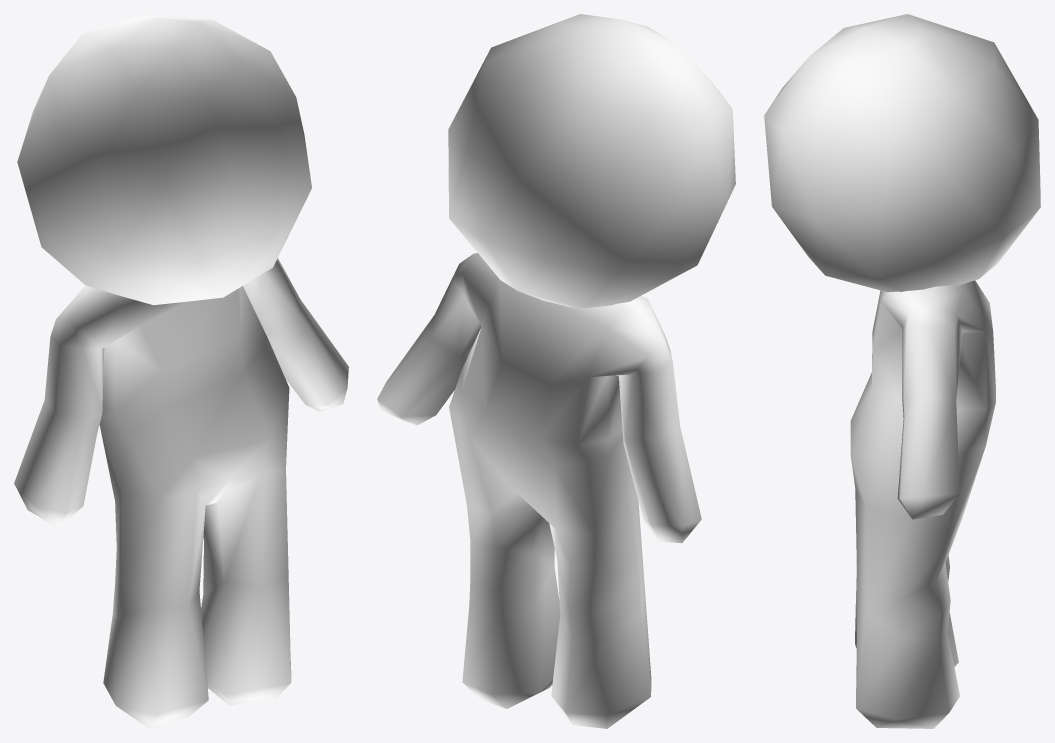
File: ROOM2.ICO.obj
The picture shows the model from 3 angles, left to right: view 1: azimuth 30°, elevation 25°; view 2: azimuth 150°, elevation 25°; view 3: azimuth 270°, elevation 25°; orthographic projection. The views are drawn at different scales.
Bounding box in the file's own units: 1.78 × 3.63 × 1.39.
1 material, 1 textured.
